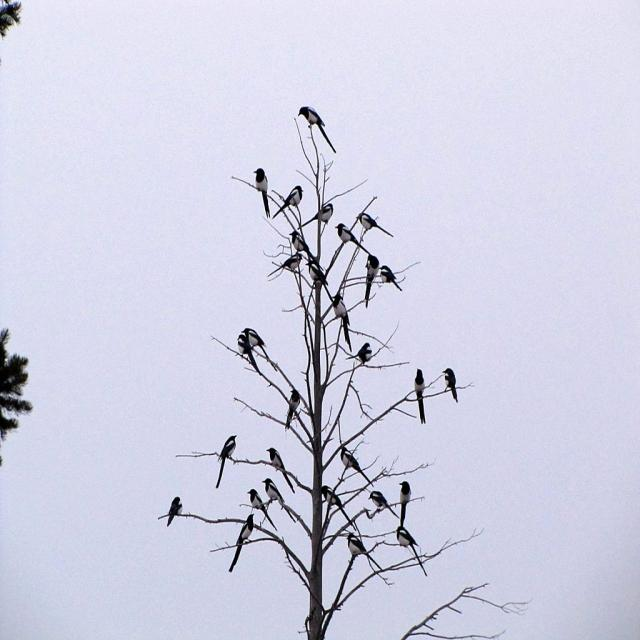bird: (295, 108, 338, 153), (317, 483, 354, 525), (394, 525, 426, 573), (333, 218, 373, 256), (229, 512, 253, 574), (344, 534, 384, 570), (264, 478, 296, 522), (340, 444, 373, 482), (246, 487, 276, 528), (216, 432, 236, 488), (264, 446, 292, 486), (363, 252, 382, 308), (334, 293, 353, 347), (250, 166, 270, 217), (268, 251, 302, 280), (296, 202, 333, 228), (283, 386, 301, 438), (305, 260, 331, 296), (356, 211, 393, 236), (414, 366, 430, 422), (288, 232, 317, 260), (239, 329, 267, 357), (378, 261, 403, 292), (348, 342, 378, 366), (234, 337, 256, 369), (440, 370, 460, 403), (279, 186, 304, 212), (368, 490, 397, 512), (165, 496, 182, 527), (399, 482, 412, 510)
